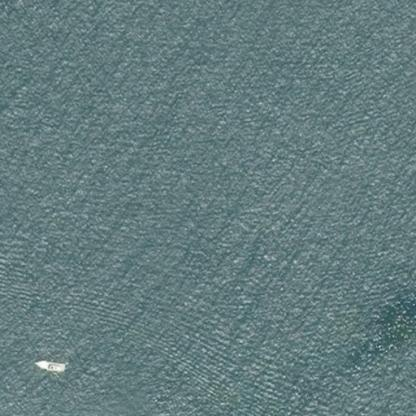ship: (30, 355, 68, 375)
